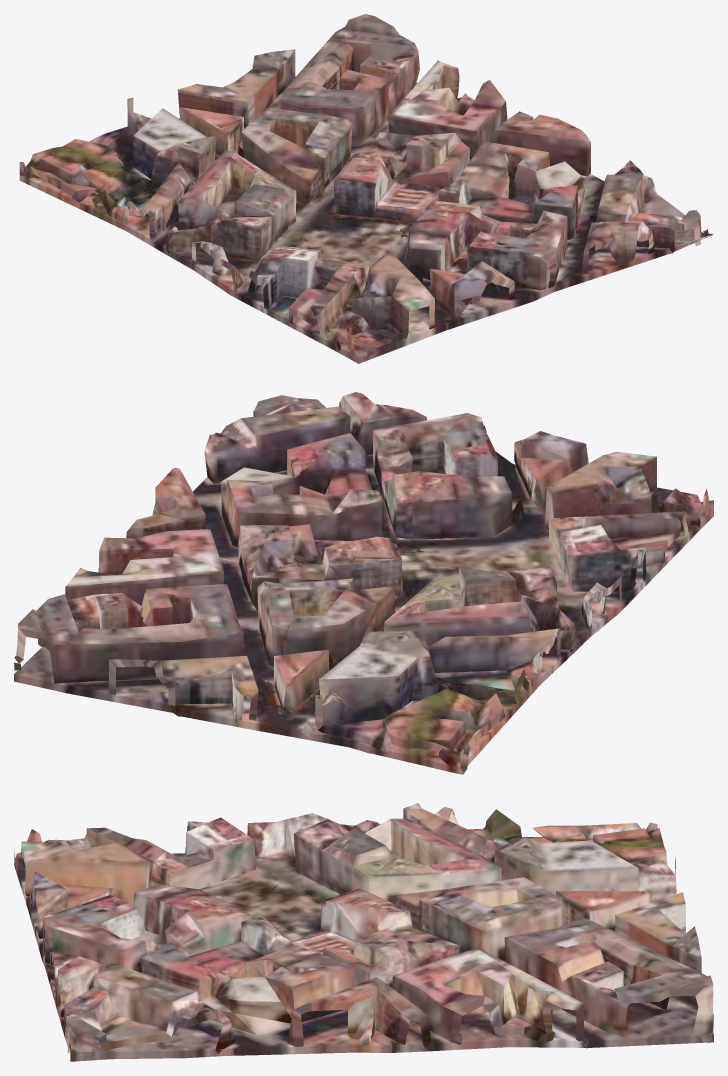
The picture shows the model from 3 angles, top to bottom: view 1: azimuth 30°, elevation 25°; view 2: azimuth 150°, elevation 25°; view 3: azimuth 270°, elevation 25°; orthographic projection. The views are drawn at different scales.
Parts seen in each view (by area): view 1: Mesh_0; view 2: Mesh_0; view 3: Mesh_0.
Part boxes in pixels (x1,y1,x2,y2): Mesh_0: (19,14,713,363); Mesh_0: (14,392,713,774); Mesh_0: (14,803,713,1061).
Bounding box in the file's own units: 274 × 38.07 × 330.
2 materials, 2 textured.
